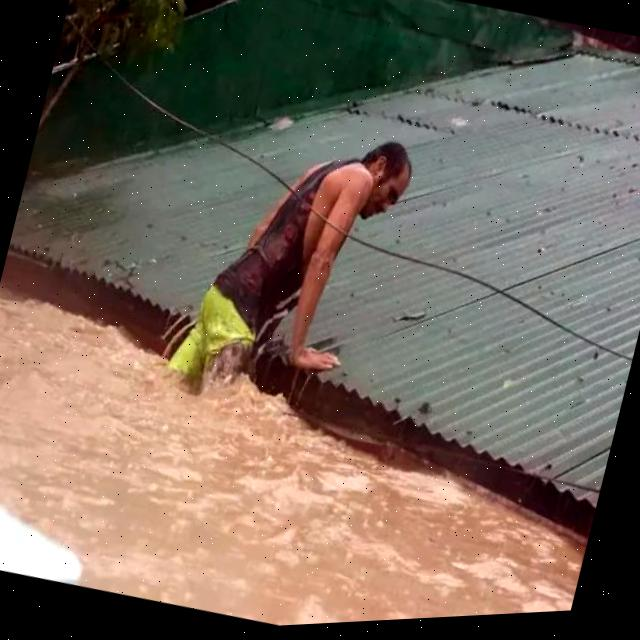civilian: (136, 48, 444, 487)
